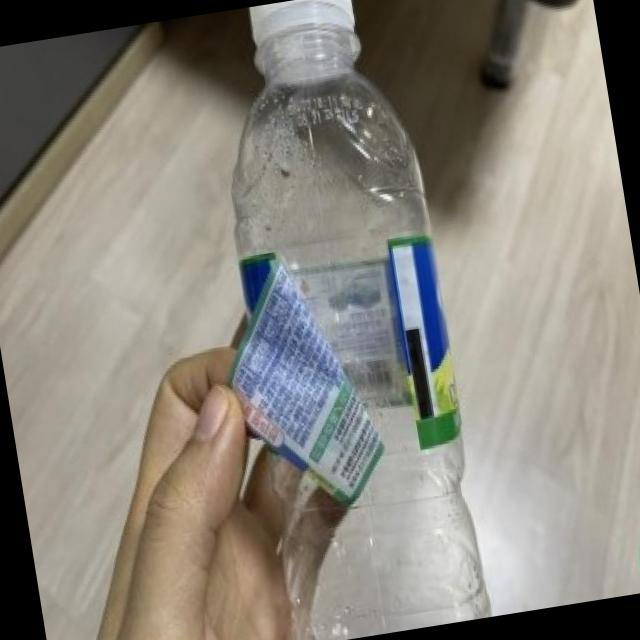plastic_bottle: (199, 0, 492, 640)
